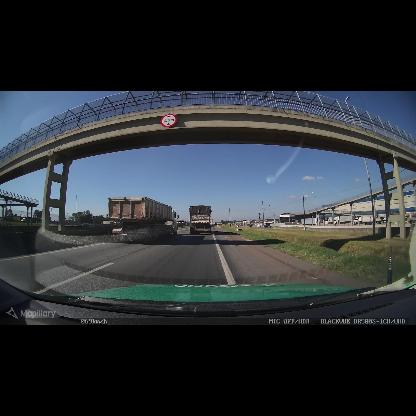R-15: (160, 114, 178, 127)
